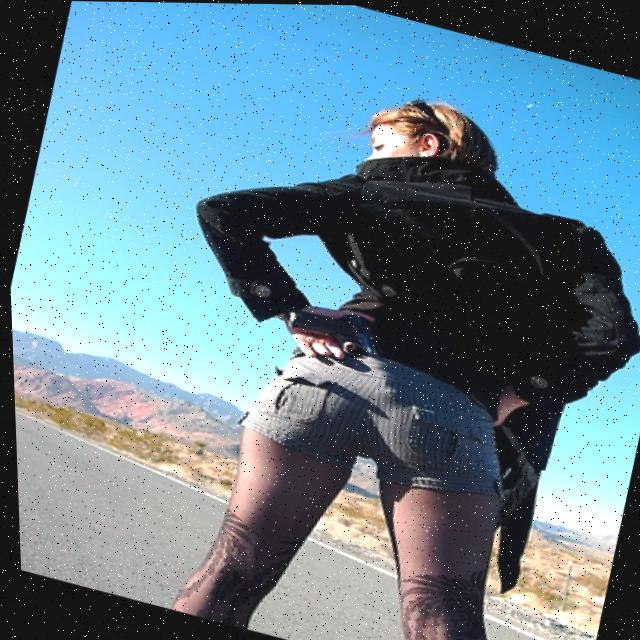pistol: (282, 283, 382, 356)
